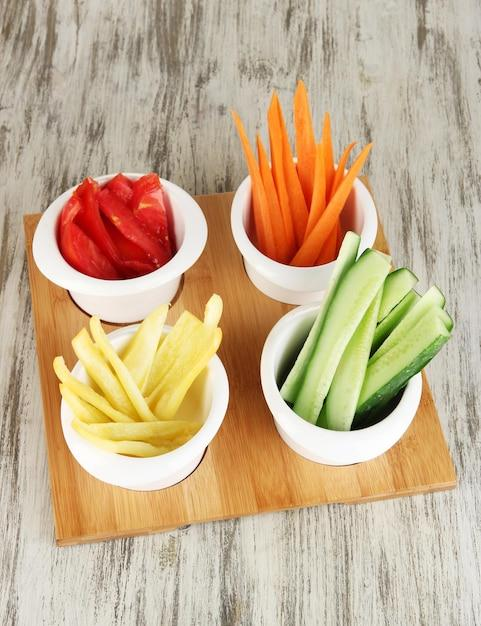carrot: (198, 85, 394, 261)
tomato: (45, 157, 221, 273)
